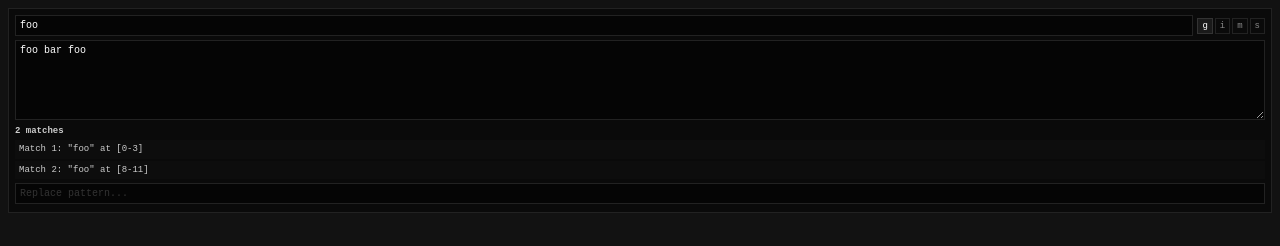
Test: RegExpTester › showReplace renders testString.replace(re, replacement) as user types
In the field labelled "Replace pattern": (640, 194) left=15, top=183, right=1265, bottom=204, type "BAZ"
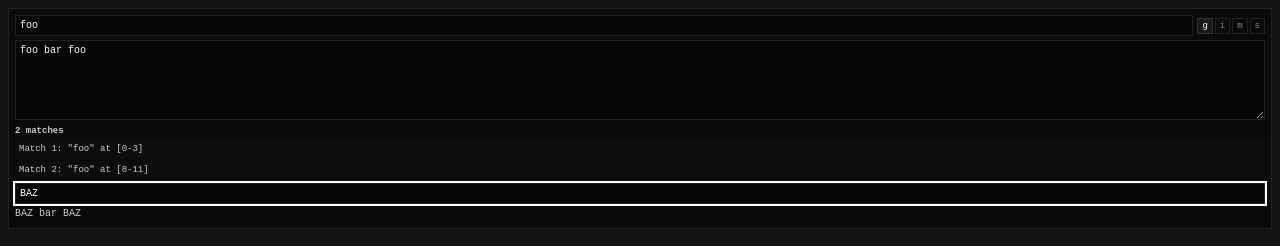
Expected: the text "BAZ bar BAZ" is shown, left=15, top=208, right=81, bottom=219
